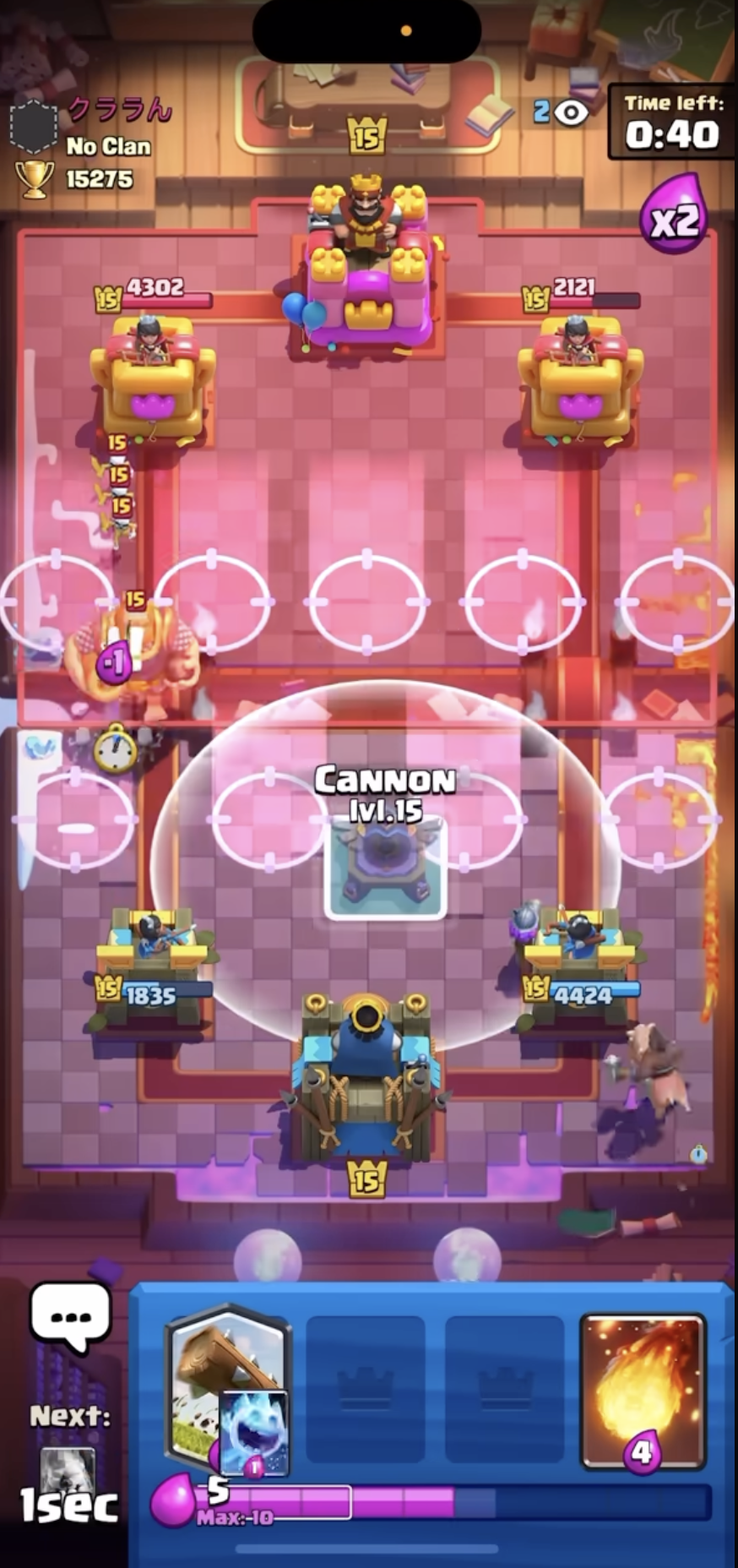cannon: (300, 763, 477, 922)
hog_rider: (605, 1015, 697, 1119)
musketeer: (507, 894, 543, 953)
skeletons: (127, 718, 170, 769), (67, 720, 94, 764)
